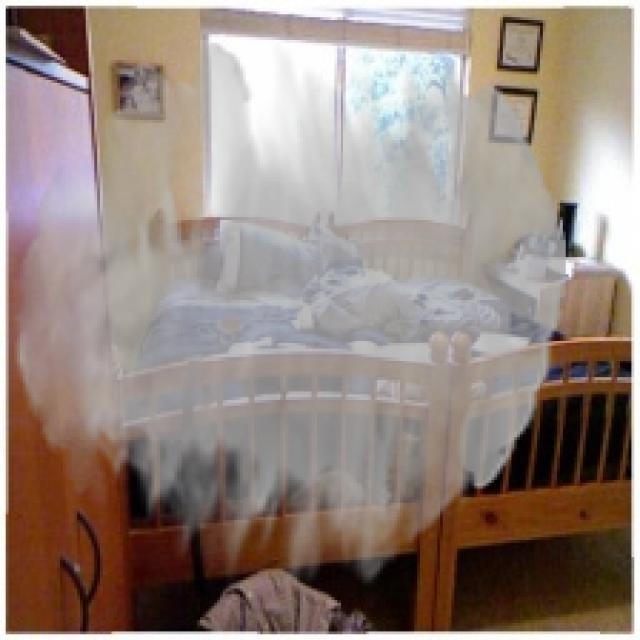smoke: (14, 43, 566, 588)
